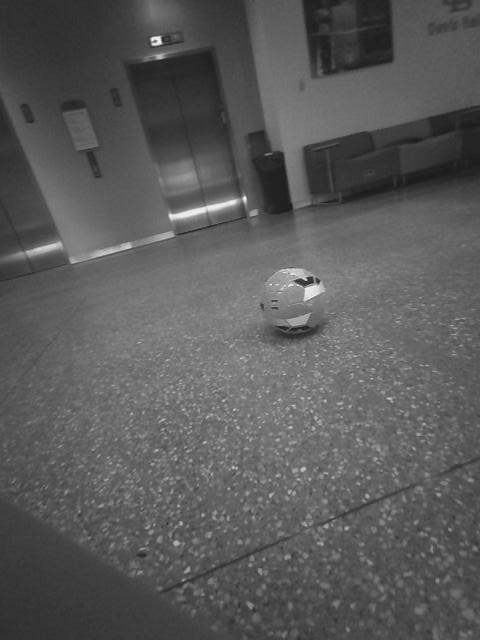ball: (254, 263, 335, 342)
